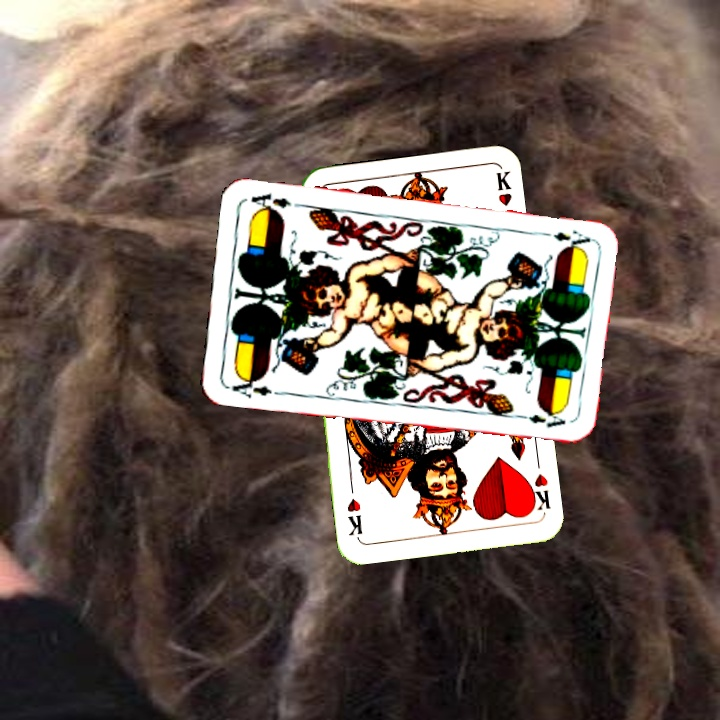EA: (225, 371, 284, 400), (534, 226, 593, 251)
HK: (523, 470, 553, 516)
